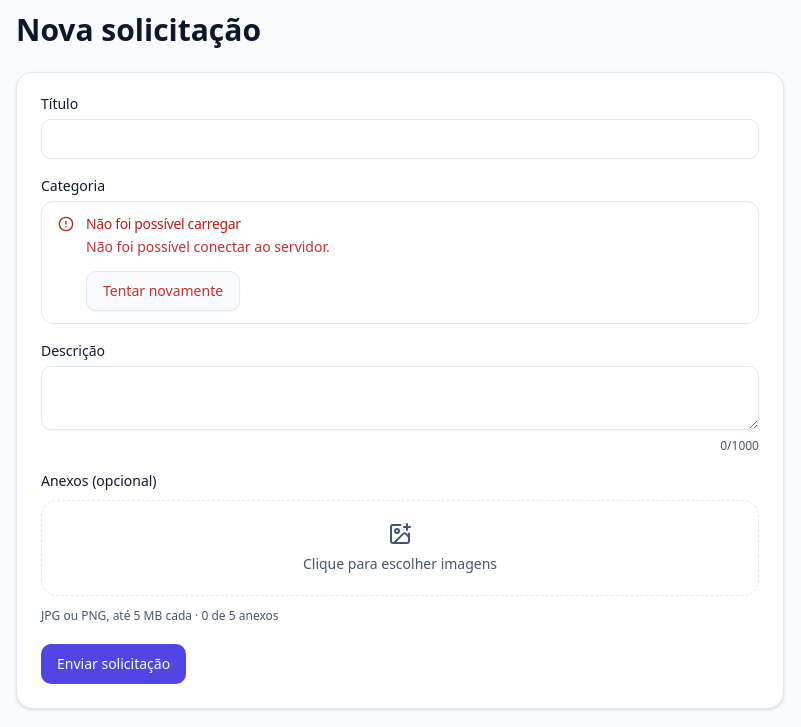
Test: NewRequestPage (UI-07) › shows the form with a live description counter
Expected: the text "0/1000" is shown, top-left (720, 438), bottom-right (759, 454)
Type "abc" into the text box labelled "Descrição". click: [400, 398]
box: top-left (41, 366), bottom-right (759, 430)
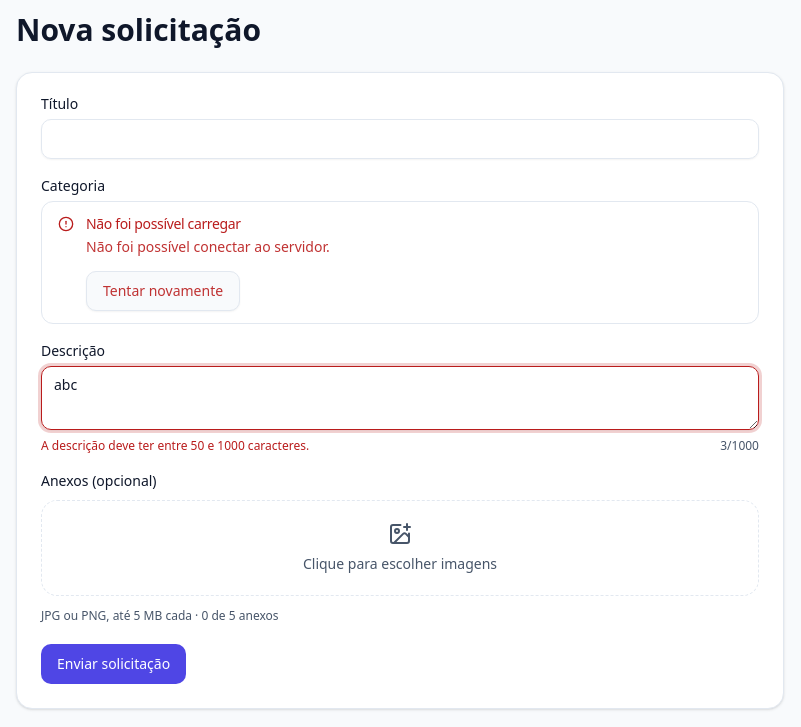
Result: the text "3/1000" is shown at top-left (720, 438), bottom-right (759, 454)
